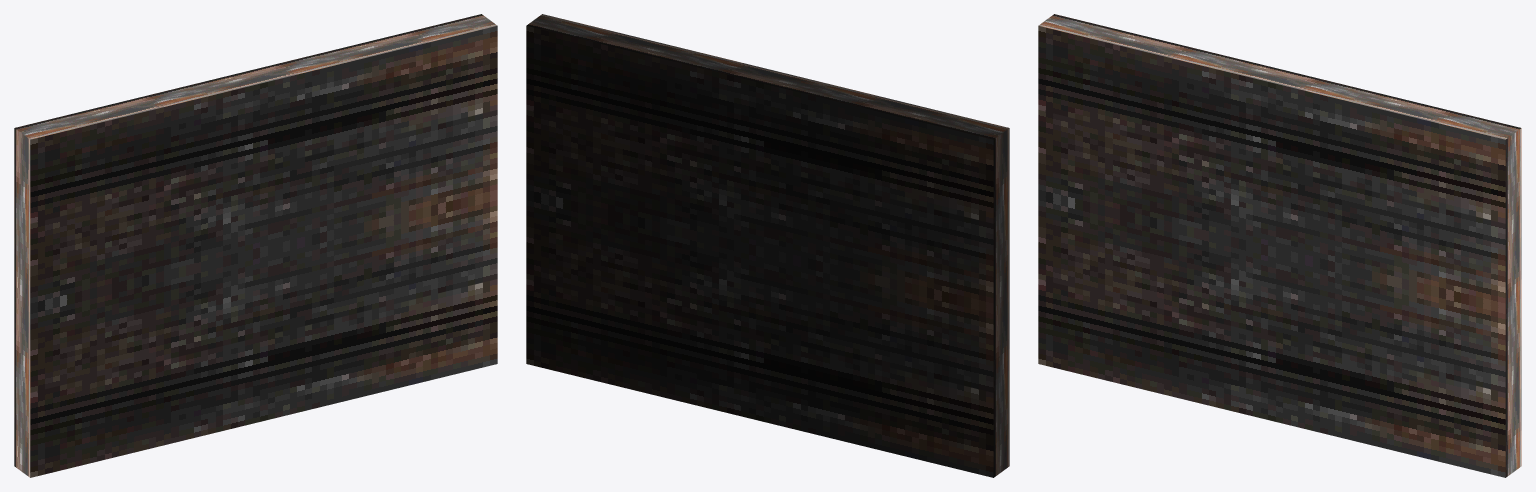
Rendered from PdamgatedoorZ.obj.
The picture shows the model from 3 angles, left to right: view 1: azimuth 30°, elevation 25°; view 2: azimuth 150°, elevation 25°; view 3: azimuth 330°, elevation 25°; orthographic projection.
Size of the model in its own units: 506 by 350 by 30.
Materials: 3 (3 with a texture image).
